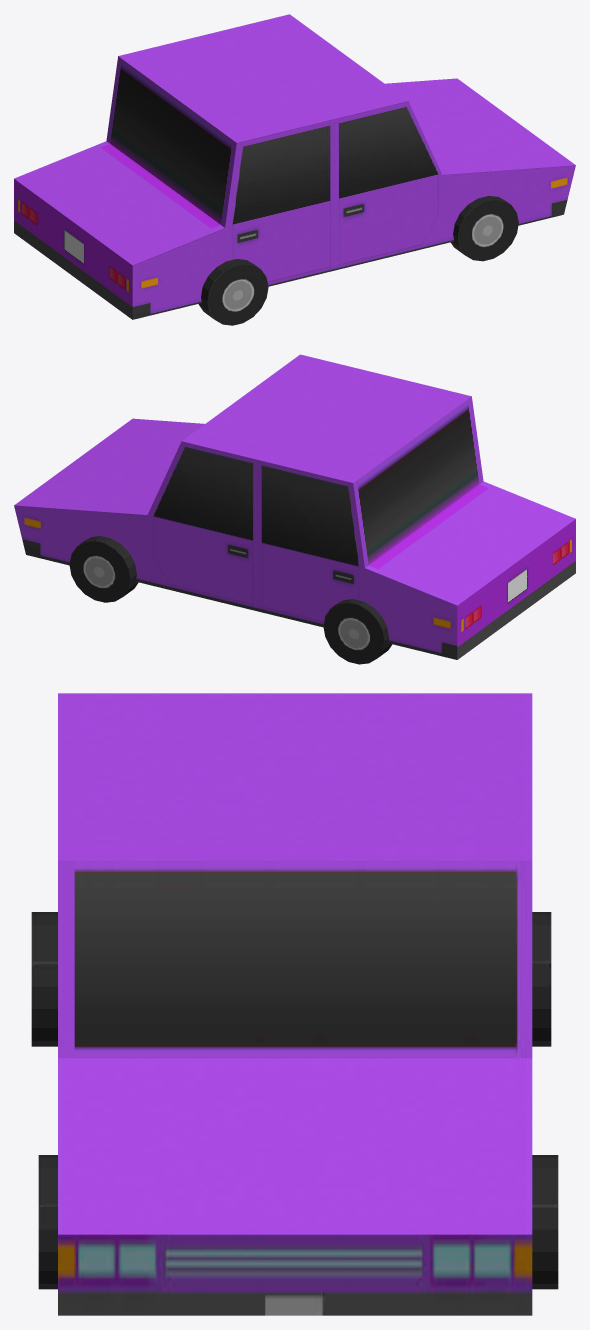
3 renders of one model, top to bottom at view 1: azimuth 30°, elevation 25°; view 2: azimuth 150°, elevation 25°; view 3: azimuth 270°, elevation 25°, orthographic. The views are drawn at different scales.
Visible parts, largest first — view 1: Car_05; view 2: Car_05; view 3: Car_05.
Boxes of the visible parts, left/top/right/bottom form: Car_05: left=14, top=14, right=575, bottom=325; Car_05: left=14, top=354, right=575, bottom=664; Car_05: left=31, top=693, right=558, bottom=1315.
Size of the model in its own units: 76.54 by 28.93 by 39.39.
